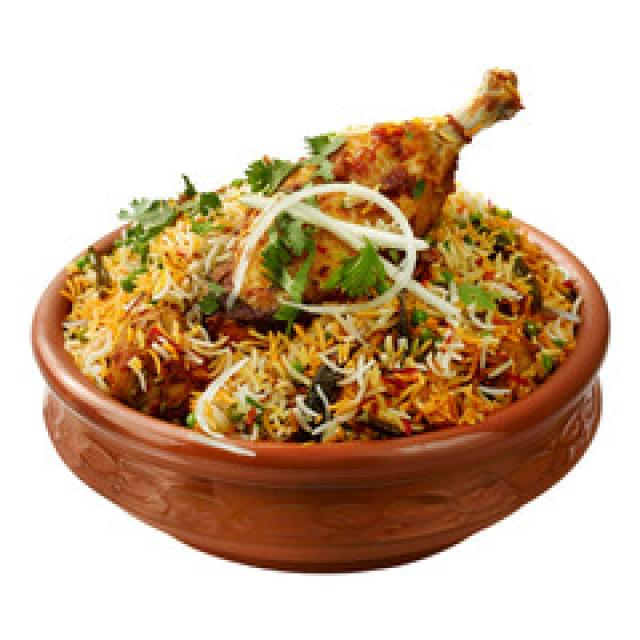BIRIYANI: (35, 69, 605, 560)
